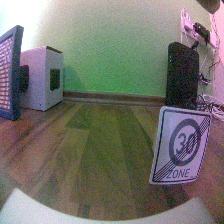dreisiger_zone_ende: (150, 105, 210, 185)
